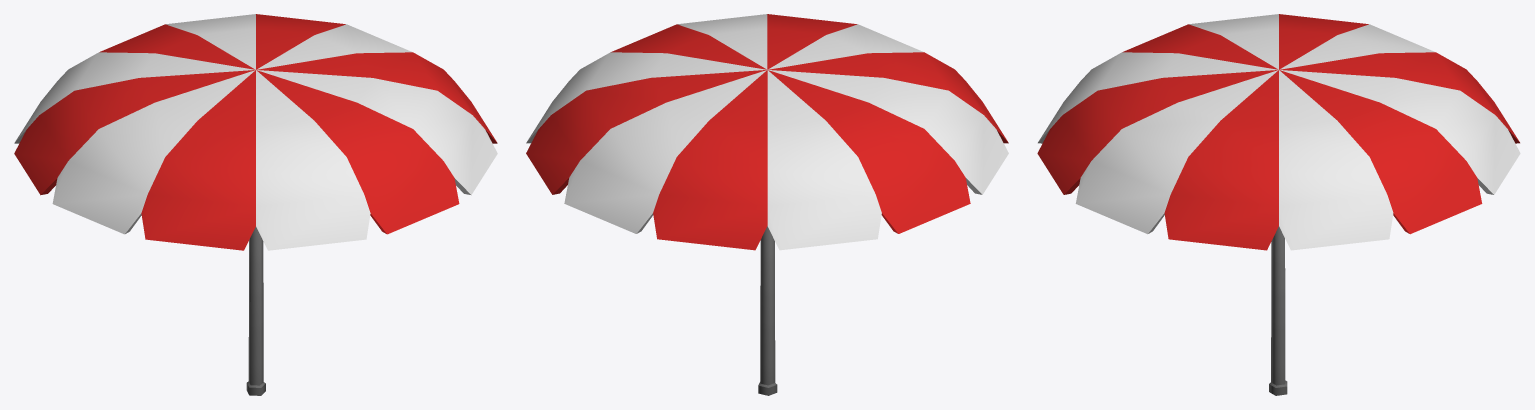
The model's file is Parasol_1_B.fbx.
3 renders of one model, left to right at view 1: azimuth 30°, elevation 25°; view 2: azimuth 150°, elevation 25°; view 3: azimuth 270°, elevation 25°, orthographic.
Visible parts, largest first — view 1: Parasol_1_B; view 2: Parasol_1_B; view 3: Parasol_1_B.
Part boxes in pixels (box(x1,y1,x2,y2)): Parasol_1_B: box(14, 14, 497, 395); Parasol_1_B: box(526, 14, 1008, 395); Parasol_1_B: box(1037, 14, 1520, 395).
Bounding box in the file's own units: 222 × 163 × 222.
